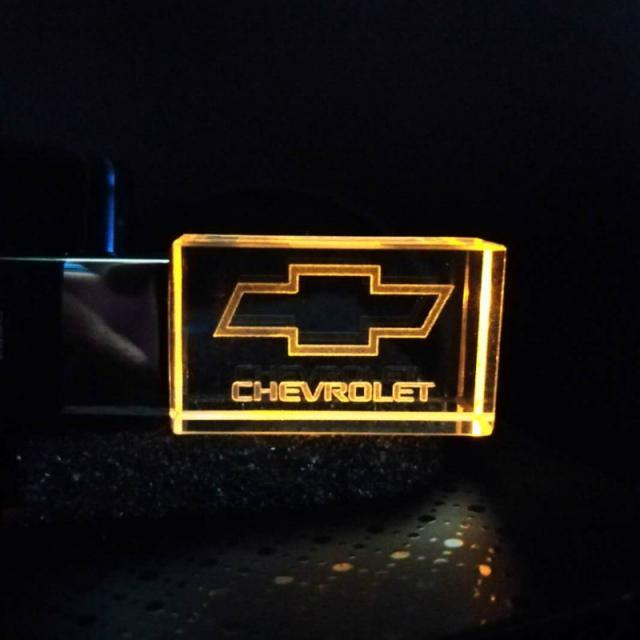Chevrolet: (212, 261, 458, 406)
